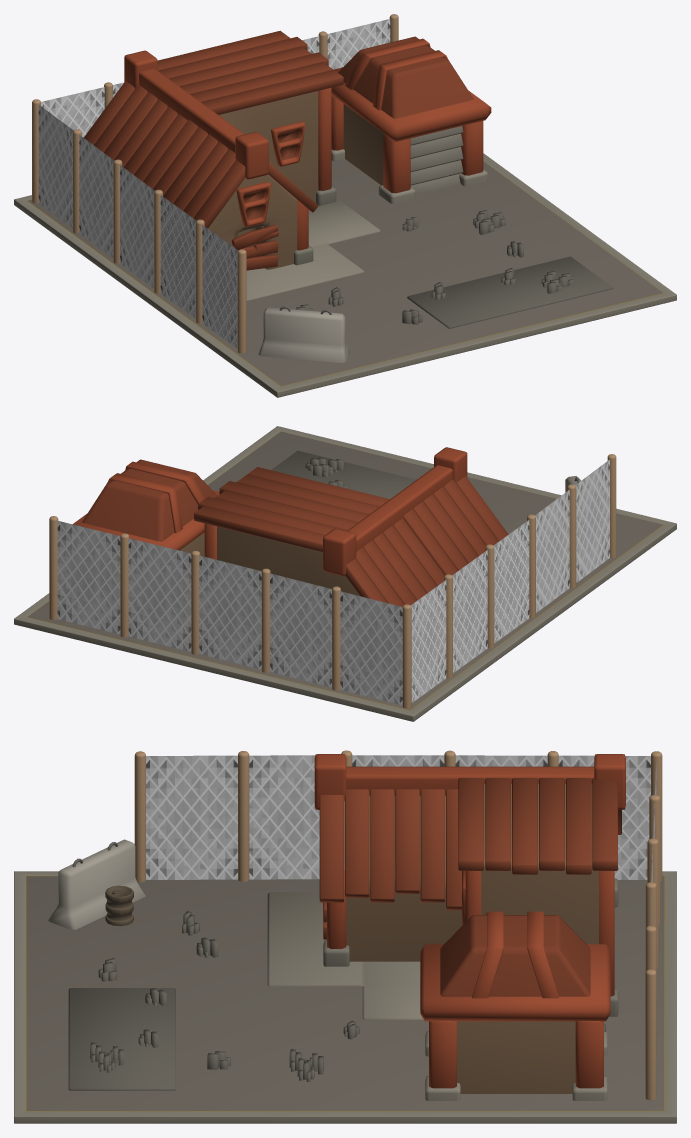
File: SM_Upgrade_Ground.fbx
3 views of the same model, one above another, from view 1: azimuth 30°, elevation 25°; view 2: azimuth 150°, elevation 25°; view 3: azimuth 270°, elevation 25° (orthographic). The views are drawn at different scales.
Visible parts, largest first — view 1: Plane.028; view 2: Plane.028; view 3: Plane.028.
Boxes of the visible parts, x1,y1,x2,y2 form: Plane.028: (14, 14, 676, 397); Plane.028: (14, 426, 676, 721); Plane.028: (14, 750, 676, 1123).
Size of the model in its own units: 542 by 197 by 619.
